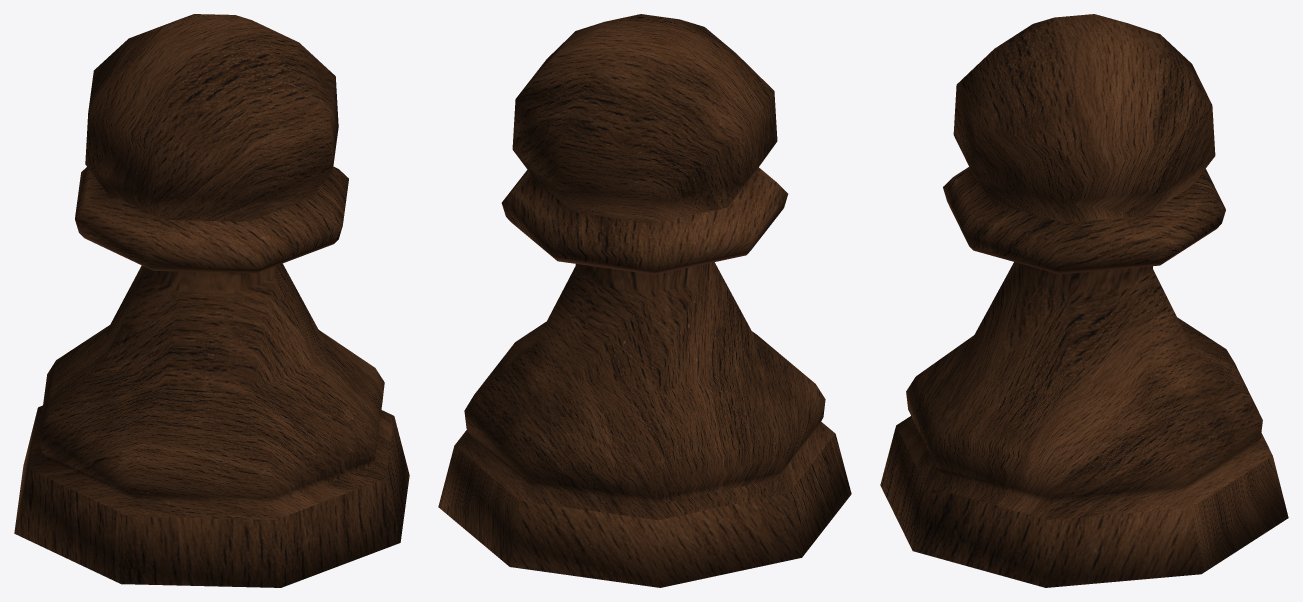
File: BlackPawn.gltf
3 renders of one model, left to right at view 1: azimuth 30°, elevation 25°; view 2: azimuth 150°, elevation 25°; view 3: azimuth 270°, elevation 25°, orthographic.
Visible parts, largest first — view 1: Object_68; view 2: Object_68; view 3: Object_68.
Boxes of the visible parts, x1,y1,x2,y2 form: Object_68: [14, 14, 409, 587]; Object_68: [438, 14, 851, 587]; Object_68: [880, 14, 1288, 587].
Size of the model in its own units: 0.0275 by 0.0349 by 0.0275.
Materials: 1 (1 with a texture image).
